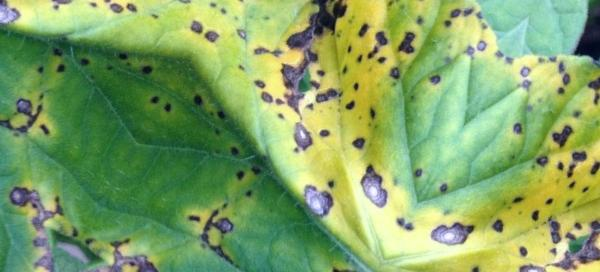Tomato Septoria leaf spot: (31, 0, 532, 272)
